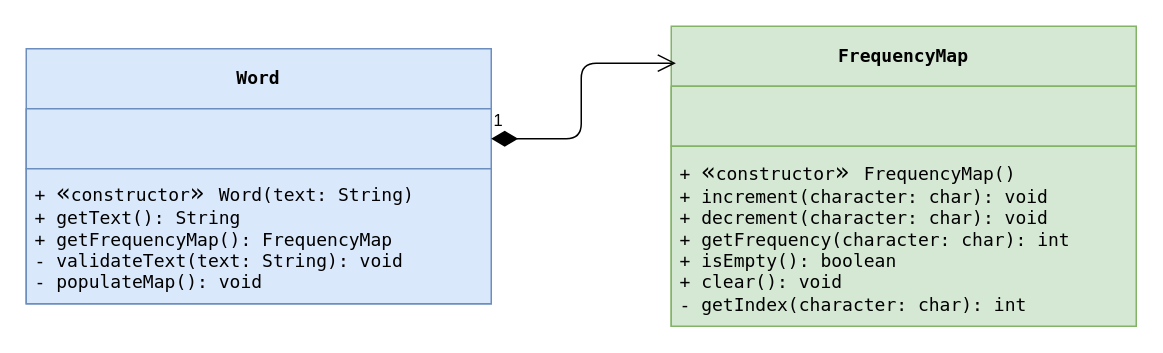
Image size: 1163x353. Some labels were removed from this diagram. Each missing label, with the centre of its shape:
"- ALPHABET_SIZE: int - frequencies: int[]" goes at (x=903, y=115).
"- text: String - frequencyMap: FrequencyMap" goes at (x=258, y=138).
